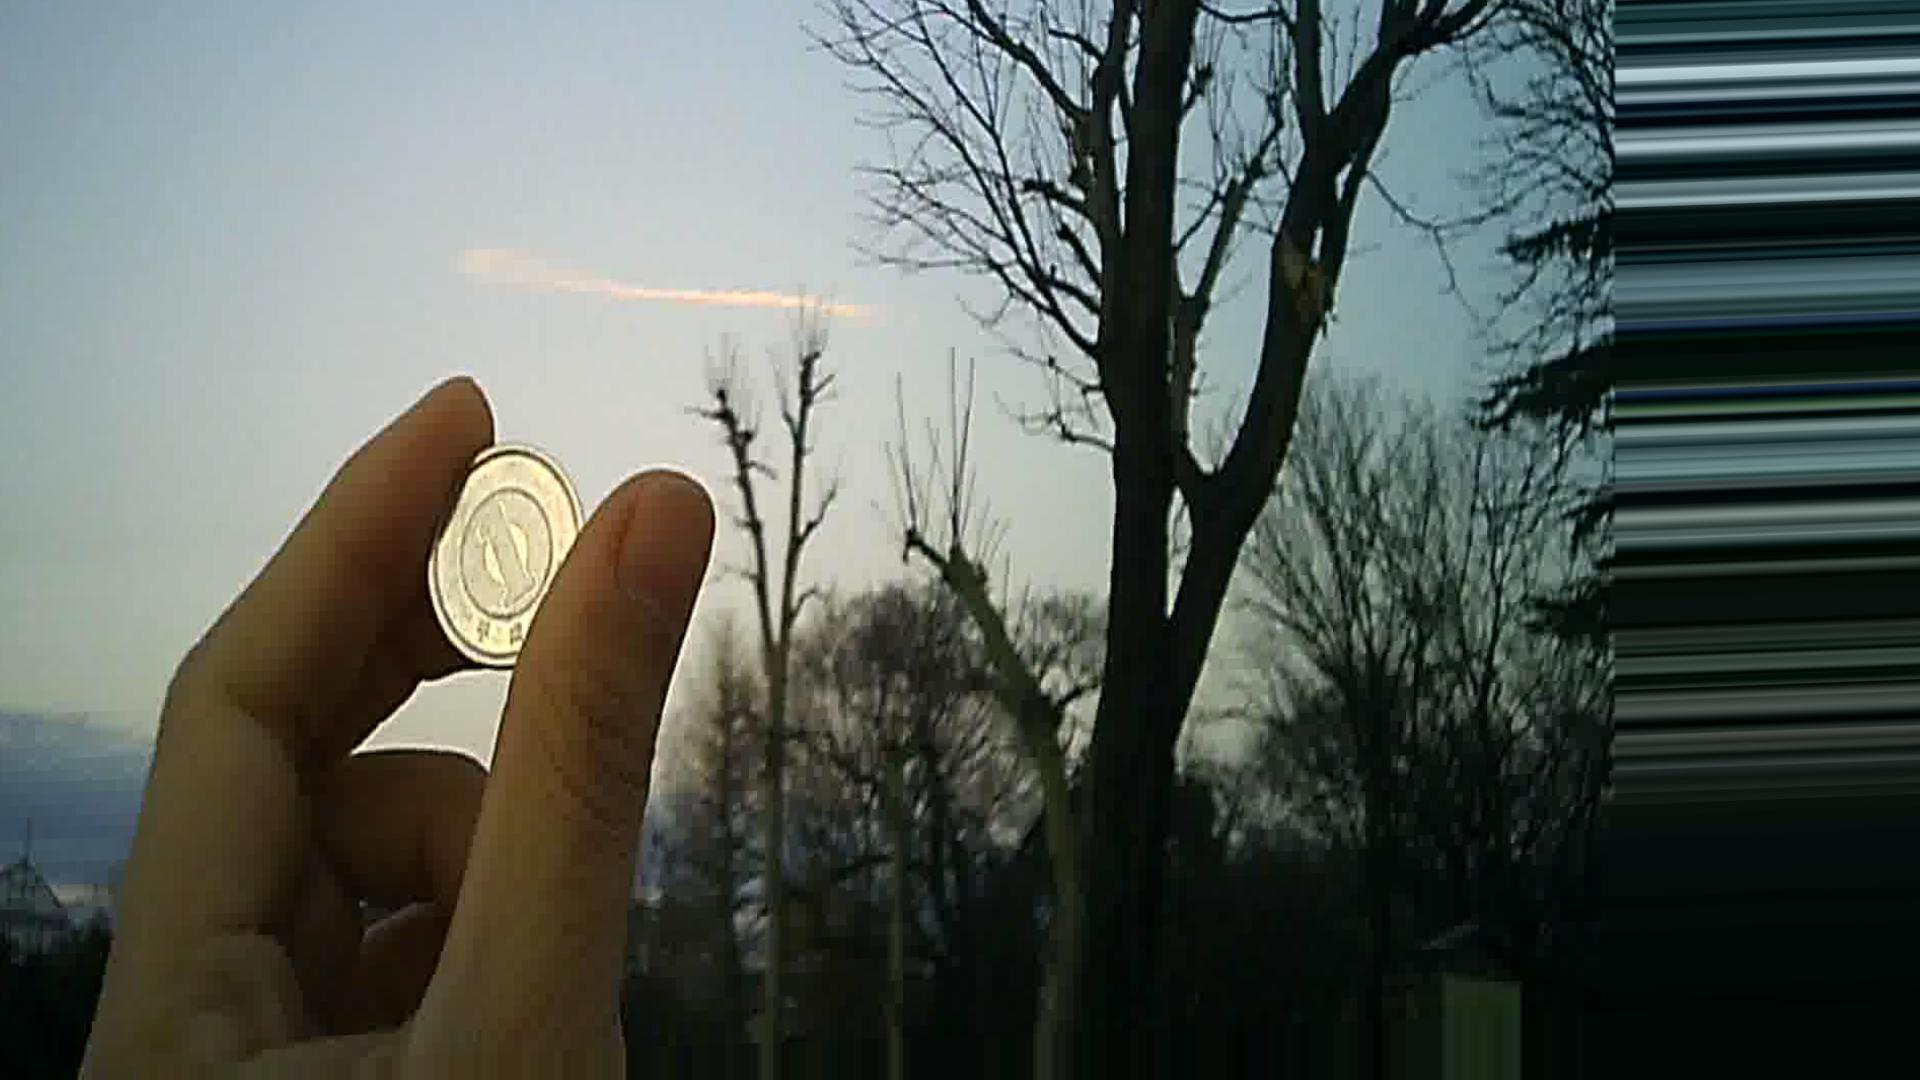1 Yen: (392, 447, 600, 686)
